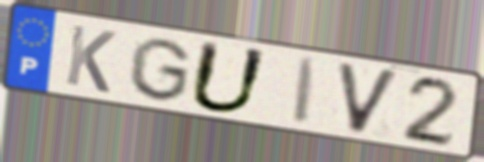2: (400, 75, 464, 150)
G: (124, 35, 194, 104)
I: (289, 55, 322, 129)
K: (63, 22, 119, 96)
U: (185, 38, 272, 116)
V: (333, 59, 403, 138)
